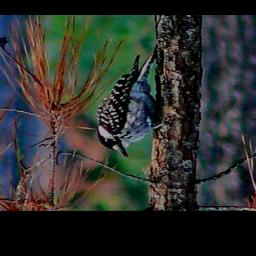Woodpecker: (85, 42, 181, 163)
